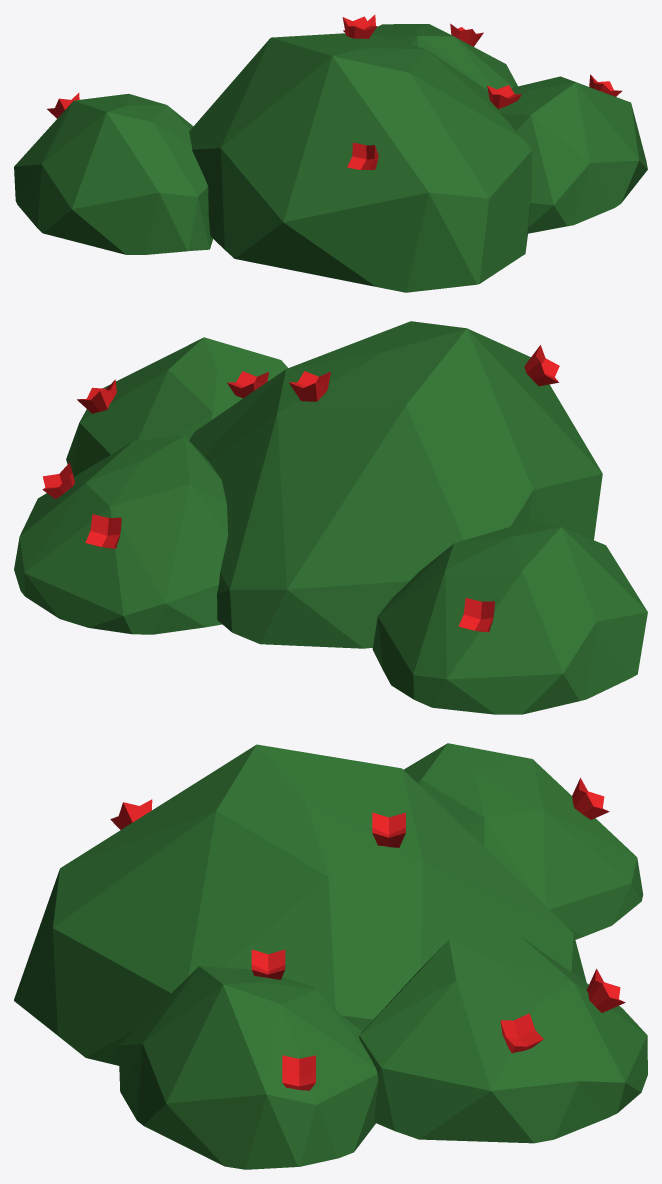
The model's file is Bush1.3.glb.
The picture shows the model from 3 angles, top to bottom: view 1: azimuth 30°, elevation 25°; view 2: azimuth 150°, elevation 25°; view 3: azimuth 270°, elevation 25°; orthographic projection. The views are drawn at different scales.
Parts seen in each view (by area): view 1: Bush1.3; view 2: Bush1.3; view 3: Bush1.3.
Boxes of the visible parts, x1,y1,x2,y2 form: Bush1.3: (14, 14, 647, 292); Bush1.3: (14, 321, 647, 714); Bush1.3: (14, 743, 647, 1169).
Size of the model in its own units: 3.51 by 1.16 by 2.81.
